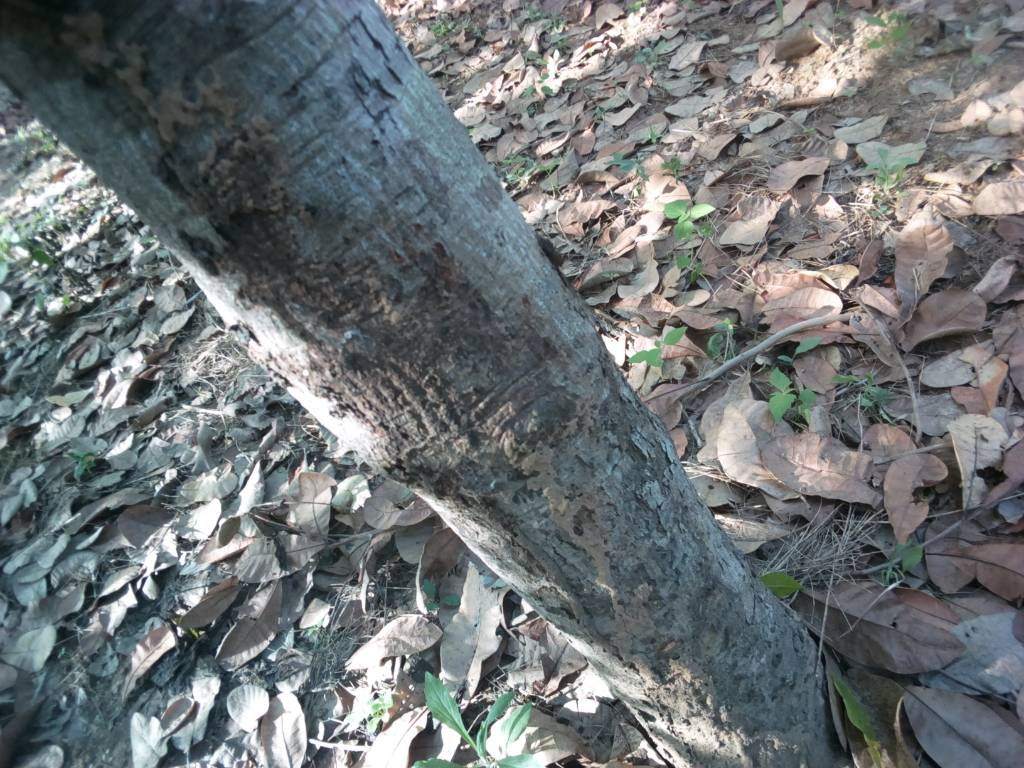Termites: (193, 99, 558, 494)
